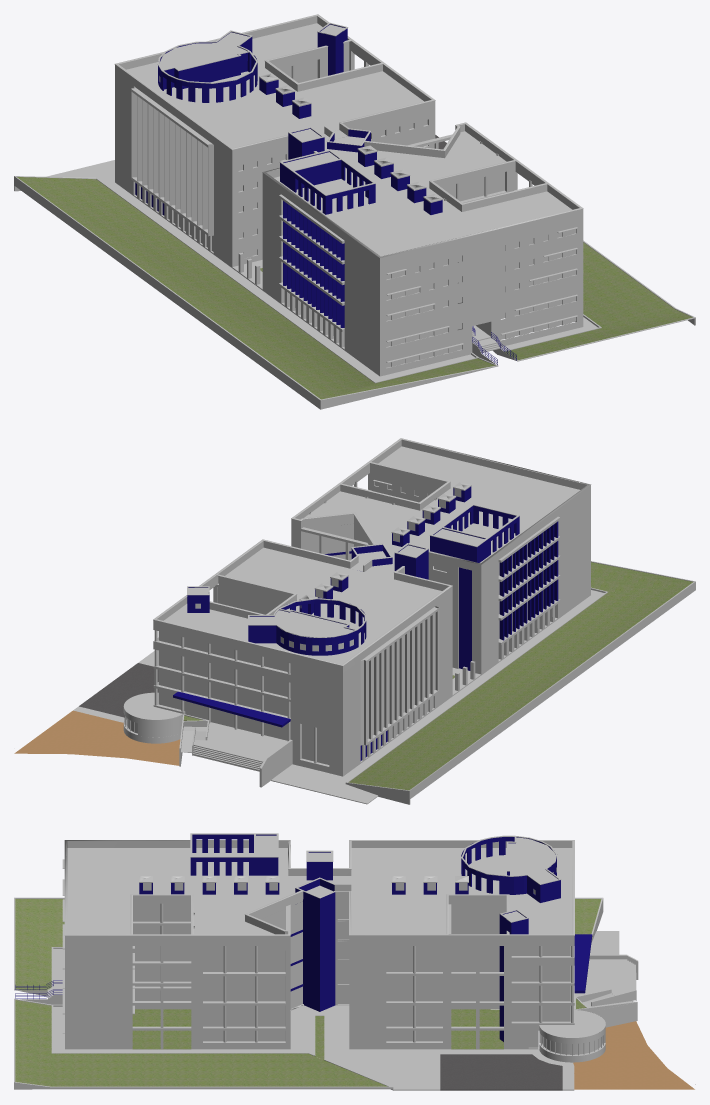
Rendered from BIBLIOTECA.FBX.
3 views of the same model, one above another, from view 1: azimuth 30°, elevation 25°; view 2: azimuth 150°, elevation 25°; view 3: azimuth 270°, elevation 25° (orthographic). The views are drawn at different scales.
Parts seen in each view (by area): view 1: BLANCO MATE, CARAVISTA BLANCO, CESPED, MORADO, PAVIMENTO, VENHO_AZUL, VEN_BIBLIO; view 2: BLANCO MATE, CARAVISTA BLANCO, CESPED, MORADO, VEN_BIBLIO, PAVIMENTO, TIERRA, VENHO_HUMANAS, VENHO_HUMANAS_V, CARRETERA, VENHO_AZUL, PUECE_AZUL; view 3: BLANCO MATE, CESPED, VEN_BIBLIO, CARAVISTA BLANCO, MORADO, PAVIMENTO, TIERRA, CARRETERA, VENHO_HUMANAS, VENHO_AZUL, PUECE_AZUL.
Part boxes in pixels (box(x1,y1,x2,y2)): BLANCO MATE: box(14, 14, 695, 409); CARAVISTA BLANCO: box(115, 49, 583, 369); CESPED: box(17, 177, 692, 399); MORADO: box(135, 24, 516, 364); PAVIMENTO: box(47, 160, 597, 381); VENHO_AZUL: box(159, 76, 576, 367); VEN_BIBLIO: box(280, 60, 504, 283); BLANCO MATE: box(14, 438, 695, 804); CARAVISTA BLANCO: box(123, 471, 590, 770); CESPED: box(183, 562, 692, 790); MORADO: box(173, 486, 558, 760); VEN_BIBLIO: box(158, 523, 365, 716); PAVIMENTO: box(73, 590, 604, 804); TIERRA: box(14, 710, 180, 765); VENHO_HUMANAS: box(158, 562, 499, 764); VENHO_HUMANAS_V: box(360, 613, 435, 742); CARRETERA: box(79, 663, 158, 717); VENHO_AZUL: box(126, 481, 461, 738); PUECE_AZUL: box(181, 700, 287, 736); BLANCO MATE: box(14, 833, 695, 1089); CESPED: box(15, 899, 601, 1086); VEN_BIBLIO: box(132, 902, 570, 1026); CARAVISTA BLANCO: box(65, 899, 605, 1062); MORADO: box(15, 834, 592, 1041); PAVIMENTO: box(53, 931, 637, 1090); TIERRA: box(573, 1021, 694, 1089); CARRETERA: box(440, 1054, 562, 1090); VENHO_HUMANAS: box(135, 946, 570, 1041); VENHO_AZUL: box(143, 867, 602, 1054); PUECE_AZUL: box(290, 986, 538, 1047).
Bounding box in the file's own units: 71.26 × 24.5 × 117.
